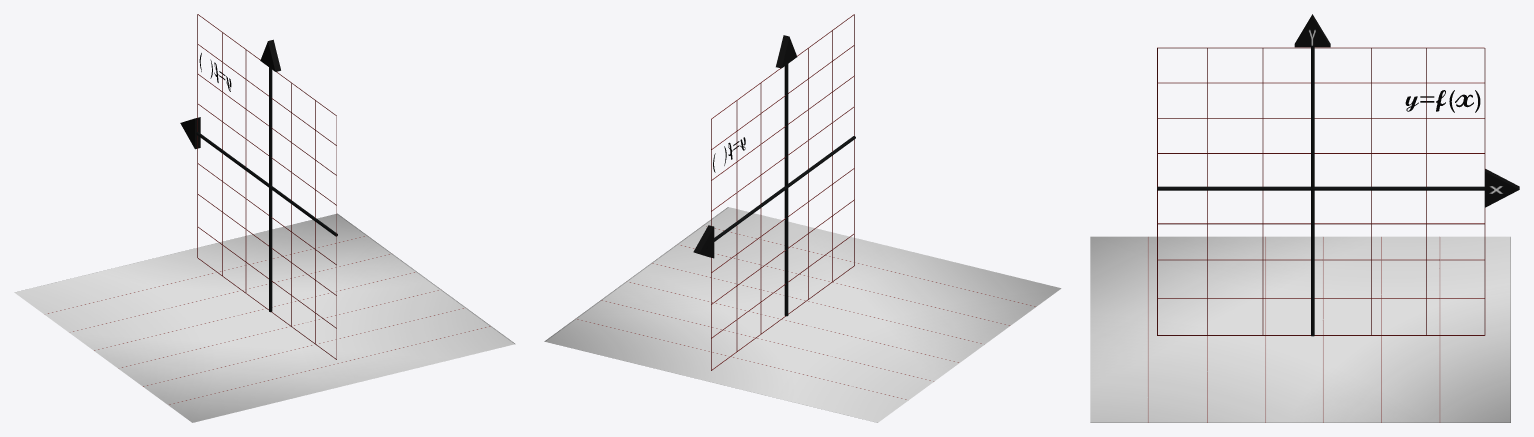
3 renders of one model, left to right at view 1: azimuth 30°, elevation 25°; view 2: azimuth 150°, elevation 25°; view 3: azimuth 270°, elevation 25°, orthographic. The views are drawn at different scales.
Visible parts, largest first — view 1: Y__X_B_²:parabola:plane:pPlane1, Y__X_B_²:parabola:pCylinder37, Y__X_B_²:parabola:pCylinder36, Y__X_B_²:parabola:pCylinder29; view 2: Y__X_B_²:parabola:plane:pPlane1, Y__X_B_²:parabola:pCylinder37, Y__X_B_²:parabola:pCylinder36, Y__X_B_²:parabola:pCylinder33, Y__X_B_²:parabola:pCylinder29; view 3: Y__X_B_²:parabola:plane:pPlane1, Y__X_B_²:parabola:pCylinder36, Y__X_B_²:parabola:pCylinder37, Y__X_B_²:parabola:nueva_flecha_x:polySurface1, Y__X_B_²:parabola:Nueva_flecha_y:polySurface1, Y__X_B_²:parabola:pCylinder11, Y__X_B_²:parabola:pCylinder1, Y__X_B_²:parabola:pCylinder13, Y__X_B_²:parabola:pCylinder3, Y__X_B_²:parabola:pCylinder24, y_f_x_:polySurface19, Y__X_B_²:parabola:pCylinder35.
Boxes of the visible parts, x1,y1,x2,y2 form: Y__X_B_²:parabola:plane:pPlane1: (14, 213, 515, 422); Y__X_B_²:parabola:pCylinder37: (269, 67, 272, 312); Y__X_B_²:parabola:pCylinder36: (196, 132, 337, 236); Y__X_B_²:parabola:pCylinder29: (245, 50, 246, 292); Y__X_B_²:parabola:plane:pPlane1: (544, 207, 1061, 422); Y__X_B_²:parabola:pCylinder37: (784, 64, 788, 316); Y__X_B_²:parabola:pCylinder36: (714, 136, 855, 241); Y__X_B_²:parabola:pCylinder33: (736, 101, 737, 351); Y__X_B_²:parabola:pCylinder29: (760, 83, 761, 333); Y__X_B_²:parabola:plane:pPlane1: (1090, 236, 1510, 422); Y__X_B_²:parabola:pCylinder36: (1157, 186, 1484, 190); Y__X_B_²:parabola:pCylinder37: (1311, 47, 1314, 336); Y__X_B_²:parabola:nueva_flecha_x:polySurface1: (1484, 169, 1519, 207); Y__X_B_²:parabola:Nueva_flecha_y:polySurface1: (1294, 14, 1330, 47); Y__X_B_²:parabola:pCylinder11: (1157, 223, 1484, 224); Y__X_B_²:parabola:pCylinder1: (1157, 47, 1484, 48); Y__X_B_²:parabola:pCylinder13: (1157, 259, 1484, 260); Y__X_B_²:parabola:pCylinder3: (1157, 82, 1484, 83); Y__X_B_²:parabola:pCylinder24: (1262, 48, 1263, 335); y_f_x_:polySurface19: (1405, 90, 1480, 112); Y__X_B_²:parabola:pCylinder35: (1484, 48, 1485, 335).
Bounding box in the file's own units: 56.75 × 45.54 × 55.31.
